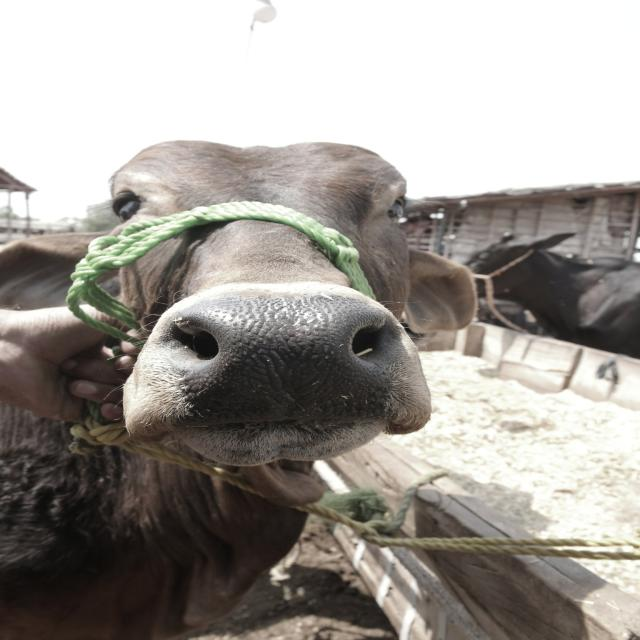muzzles: (153, 293, 414, 448)
